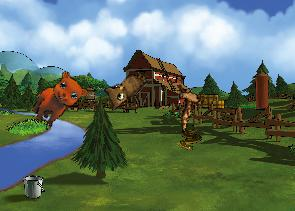bear: (27, 66, 92, 136)
eagle: (163, 76, 214, 133)
owl: (98, 60, 149, 113)
